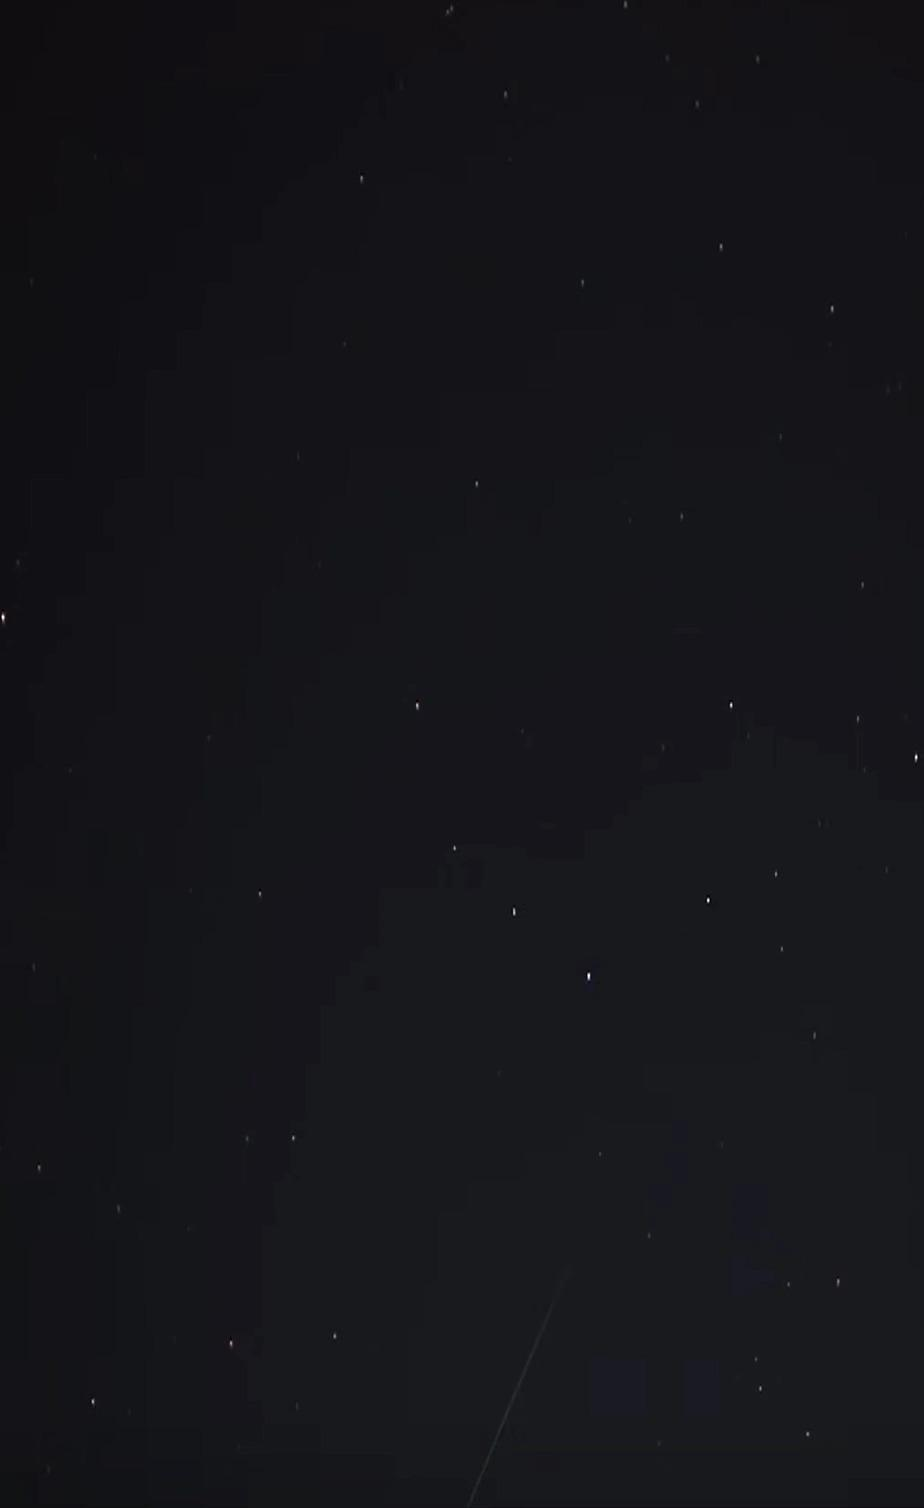meteorite: (439, 1251, 589, 1507)
